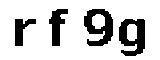9: (81, 7, 114, 50)
f: (48, 6, 74, 50)
g: (116, 14, 147, 60)
r: (12, 14, 38, 49)
